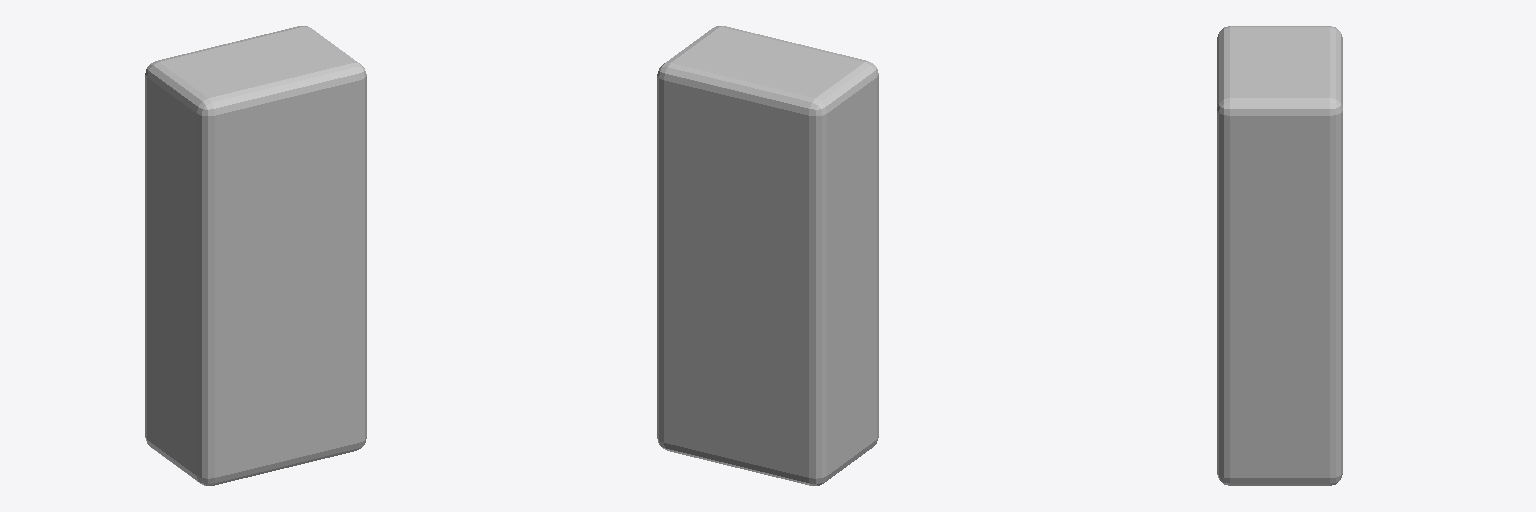
The model's file is ramp.obj.
3 renders of one model, left to right at view 1: azimuth 30°, elevation 25°; view 2: azimuth 150°, elevation 25°; view 3: azimuth 270°, elevation 25°, orthographic.
Visible parts, largest first — view 1: Cube; view 2: Cube; view 3: Cube.
Part boxes in pixels (left/top/right/bottom): Cube: left=145, top=26, right=366, bottom=485; Cube: left=657, top=26, right=878, bottom=485; Cube: left=1217, top=26, right=1342, bottom=485.
Size of the model in its own units: 3.07 by 6.75 by 2.